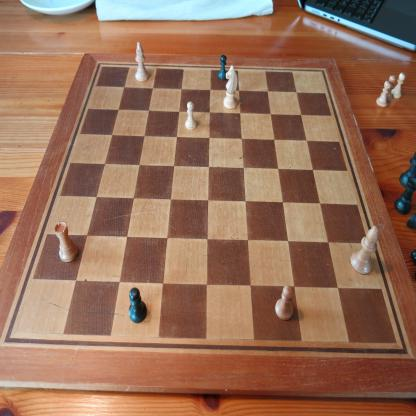black-pawn: (128, 287, 147, 323), (217, 54, 227, 81)
black-rook: (393, 177, 416, 215)
white-bishop: (350, 225, 380, 275), (135, 41, 149, 82)
white-knight: (223, 64, 238, 110)
white-pawn: (274, 284, 294, 322), (376, 80, 391, 108), (391, 72, 406, 99), (185, 102, 197, 130), (387, 74, 396, 102)
white-rook: (54, 221, 79, 263)
